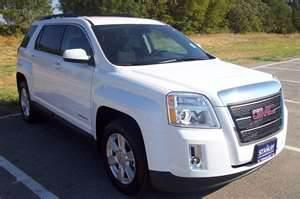Car: (6, 10, 300, 199)
